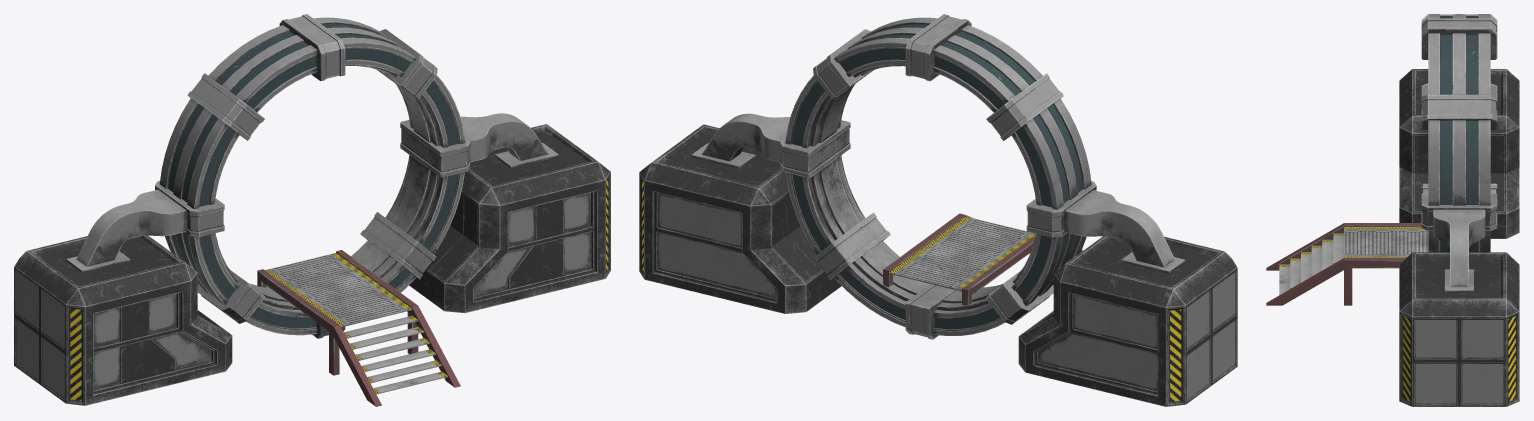
The model's file is portal_bundle.fbx.
3 views of the same model, side by side, from view 1: azimuth 30°, elevation 25°; view 2: azimuth 150°, elevation 25°; view 3: azimuth 270°, elevation 25° (orthographic). The views are drawn at different scales.
Parts seen in each view (by area): view 1: side_housing, portal_main, walkway, clamps; view 2: side_housing, portal_main, clamps, walkway; view 3: side_housing, portal_main, walkway, clamps.
Boxes of the visible parts, bbox=[...] form: side_housing: bbox=[14, 113, 610, 405]; portal_main: bbox=[159, 17, 465, 335]; walkway: bbox=[257, 250, 460, 406]; clamps: bbox=[155, 14, 470, 338]; side_housing: bbox=[639, 113, 1237, 406]; portal_main: bbox=[785, 17, 1091, 335]; clamps: bbox=[780, 14, 1096, 339]; walkway: bbox=[883, 213, 1082, 305]; side_housing: bbox=[1399, 69, 1519, 406]; portal_main: bbox=[1428, 14, 1490, 252]; walkway: bbox=[1266, 223, 1428, 305]; clamps: bbox=[1421, 14, 1497, 230].
Bounding box in the file's own units: 1001 × 515 × 442.
